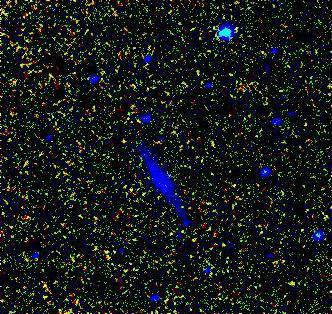star: (110, 126, 140, 156)
